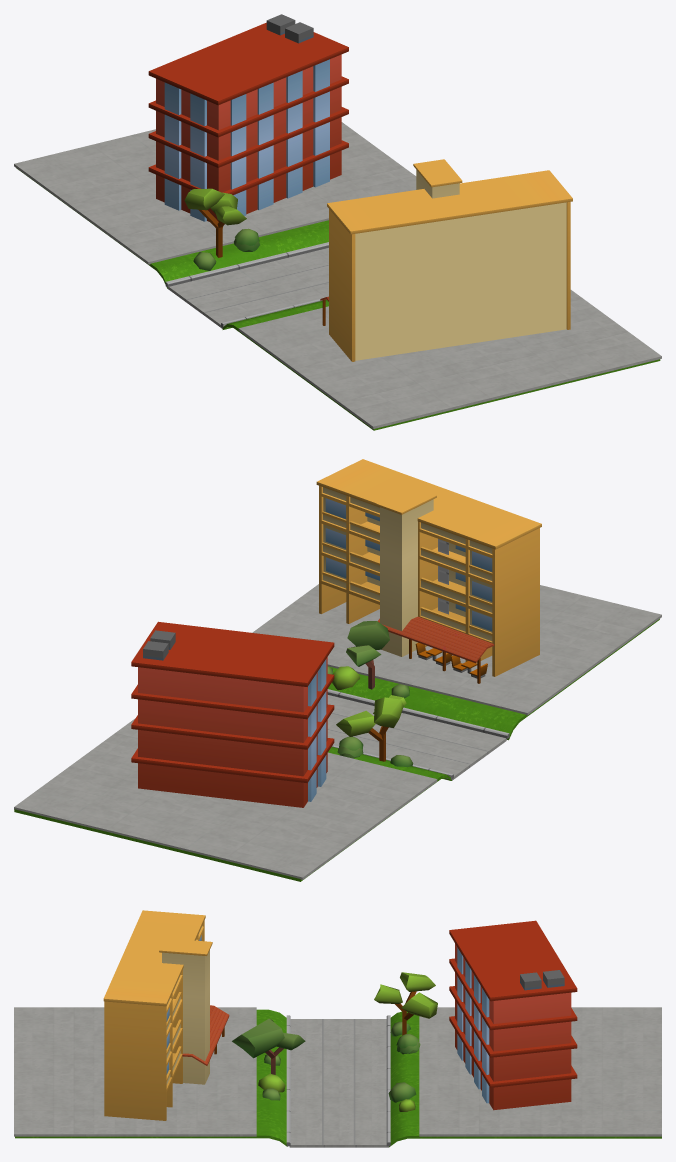
File: Level 2 Chunk 6 V2.fbx
The picture shows the model from 3 angles, top to bottom: view 1: azimuth 30°, elevation 25°; view 2: azimuth 150°, elevation 25°; view 3: azimuth 270°, elevation 25°; orthographic projection. The views are drawn at different scales.
Visible parts, largest first — view 1: polySurface1207, pCube15839, pCube9403, pCube9404, pCube9394, pCube9402, pCube9386, pCube9384, pCube9383; view 2: polySurface1207, pCube15839, pCube9404, pCube9403, pCube9394, pCube9384, pCube9402, pCube9386, polySurface22, pCube9387; view 3: pCube9404, pCube9403, pCube15839, polySurface1207, pCube9394, pCube9402, pCube9384, pCube9386, polySurface22, pCube9383, pCube9387, pSphere72.
Part boxes in pixels (x1,y1,x2,y2): polySurface1207: (320, 159, 572, 361); pCube15839: (148, 14, 348, 221); pCube9403: (238, 290, 661, 429); pCube9404: (14, 122, 416, 264); pCube9394: (167, 248, 328, 328); pCube9402: (16, 168, 328, 288); pCube9386: (184, 188, 246, 257); pCube9384: (222, 299, 660, 430); pCube9383: (165, 242, 328, 287); polySurface1207: (316, 459, 541, 683); pCube15839: (131, 621, 334, 807); pCube9404: (14, 718, 437, 879); pCube9403: (252, 584, 661, 715); pCube9394: (327, 695, 506, 780); pCube9384: (328, 619, 659, 740); pCube9402: (14, 747, 451, 881); pCube9386: (336, 695, 406, 761); polySurface22: (346, 621, 389, 689); pCube9387: (327, 689, 509, 738); pCube9404: (419, 1007, 661, 1136); pCube9403: (14, 1007, 256, 1136); pCube15839: (449, 920, 577, 1110); polySurface1207: (103, 910, 229, 1120); pCube9394: (289, 1019, 388, 1147); pCube9402: (389, 1011, 661, 1147); pCube9384: (15, 1009, 287, 1146); pCube9386: (374, 972, 437, 1035); polySurface22: (232, 1018, 305, 1074); pCube9383: (386, 1015, 390, 1146); pCube9387: (286, 1015, 290, 1146); pSphere72: (388, 1082, 416, 1102).
Size of the model in its own units: 12.41 by 6.56 by 26.6.
Materials: 2 (2 with a texture image).
